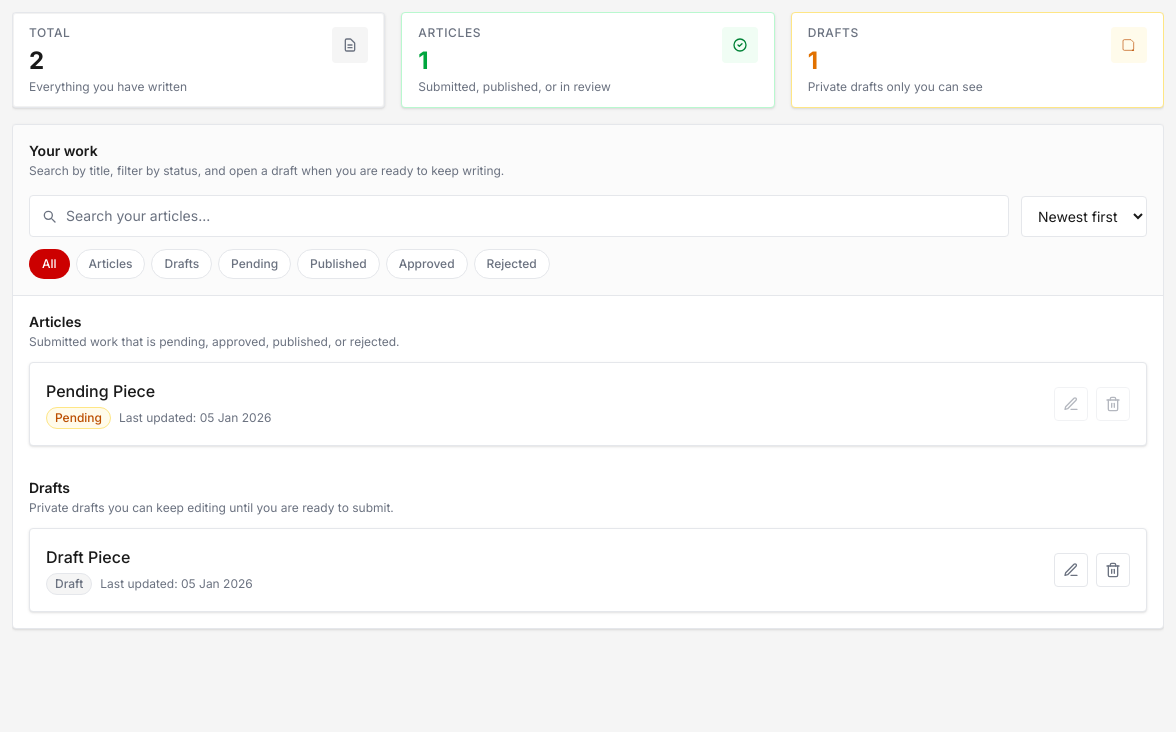
it: MyArticlesList › filters to submitted articles when the Articles widget is clicked
The width and height of the screenshot is (1176, 732).
Check: the element with test id "article-card-draft1" is shown, box [29,528,1147,612]
Click the button with test id "widget-my-articles-submitted" at (450, 32), box [401,12,775,108]
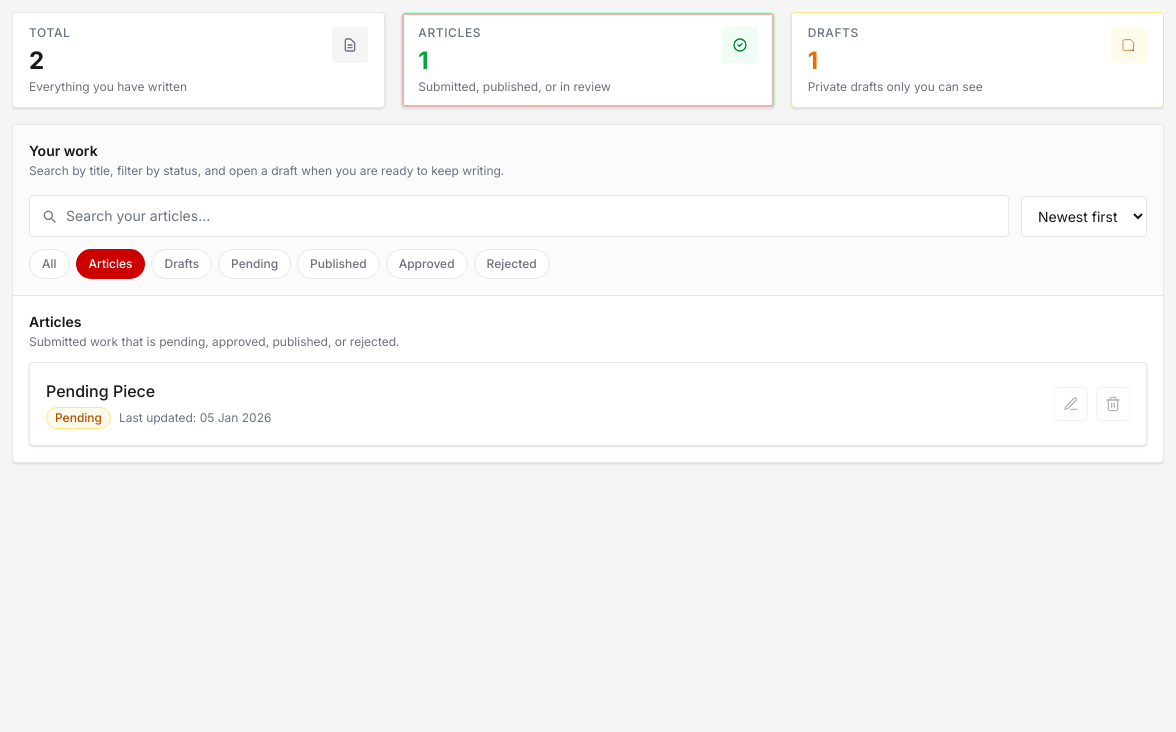
Check: the element with test id "article-card-pend1" is shown, box [29,362,1147,446]
Check: the element with test id "article-card-draft1" is gone
Check: the element with test id "my-articles-drafts-section" is gone
